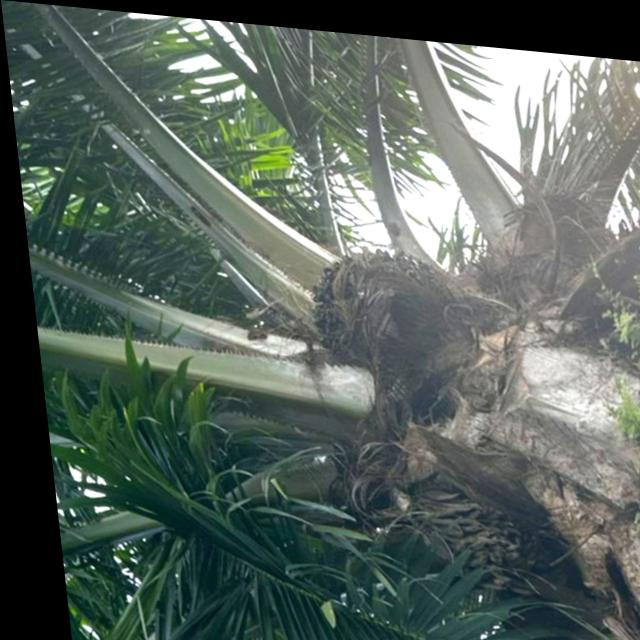unripe: (292, 227, 468, 386)
